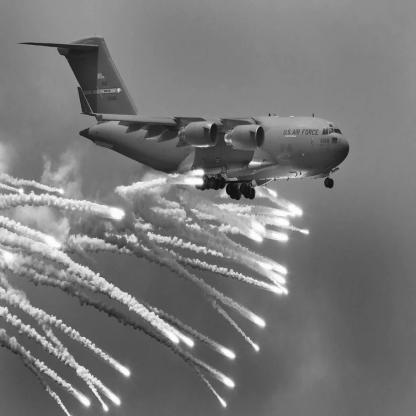C17: (18, 35, 351, 201)
